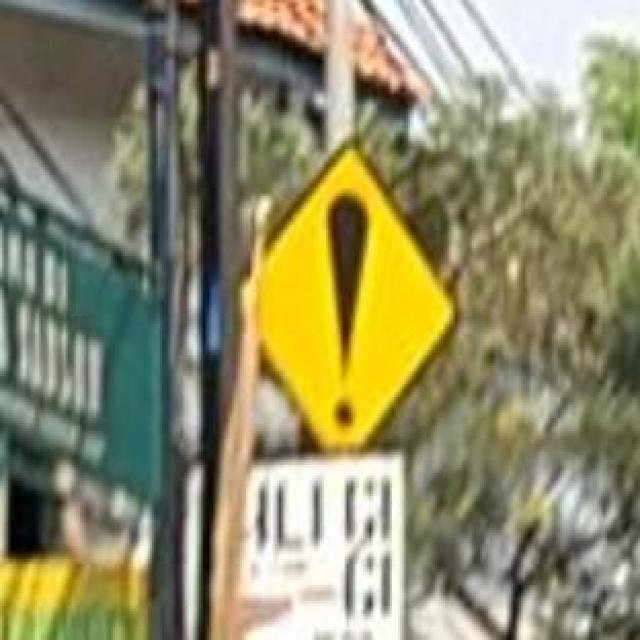traffic sign: (267, 139, 460, 450)
